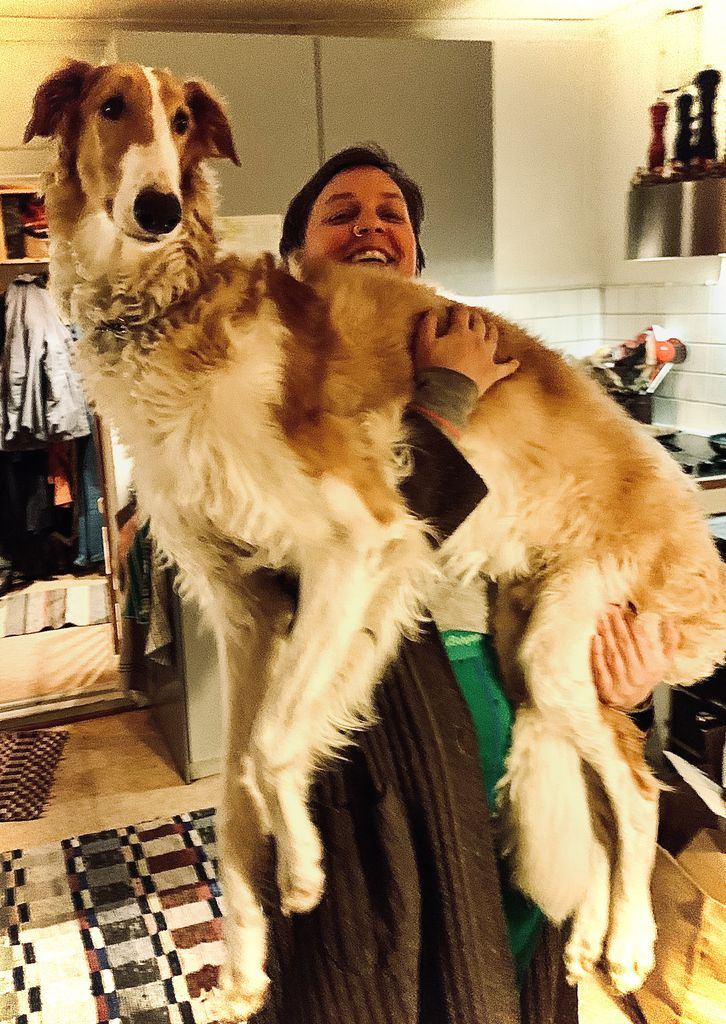borzoi: (26, 64, 720, 999)
